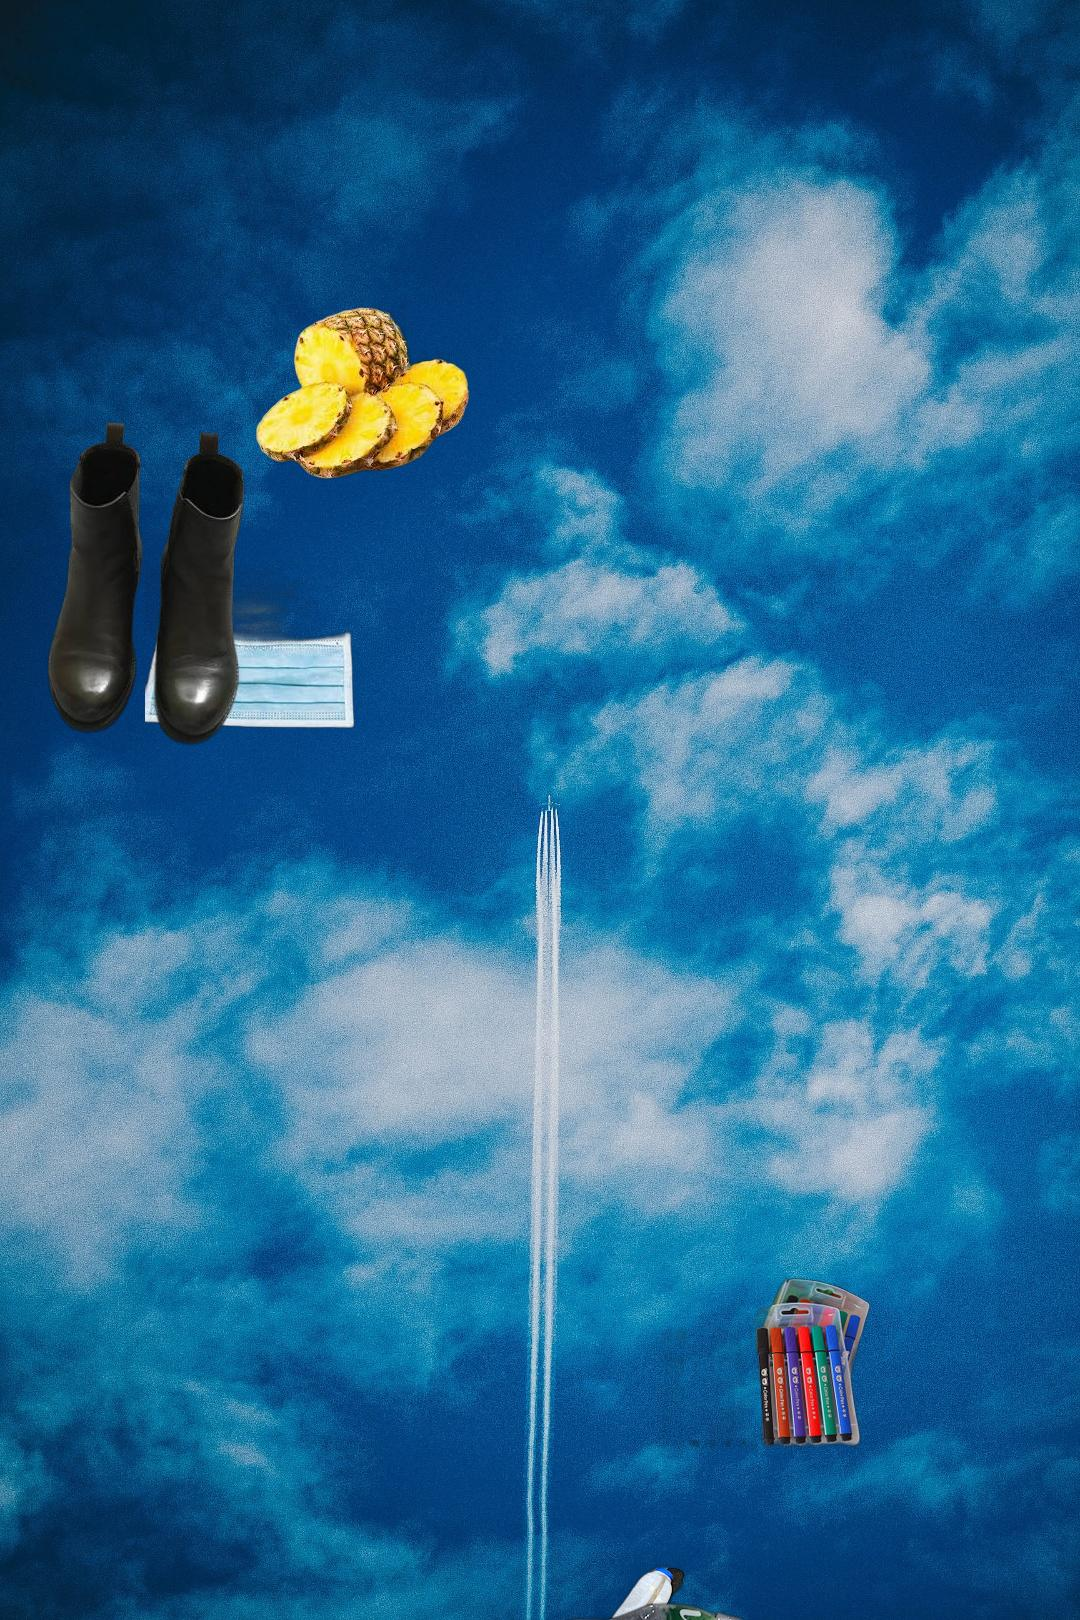biological: (253, 298, 495, 480)
penholder: (641, 1220, 873, 1458)
plastic-bottles: (541, 1561, 689, 1620), (469, 1600, 796, 1620)
shoes: (45, 418, 248, 750)
trash: (145, 528, 359, 730)
trashbox-cardboard: (833, 1483, 1080, 1620)
